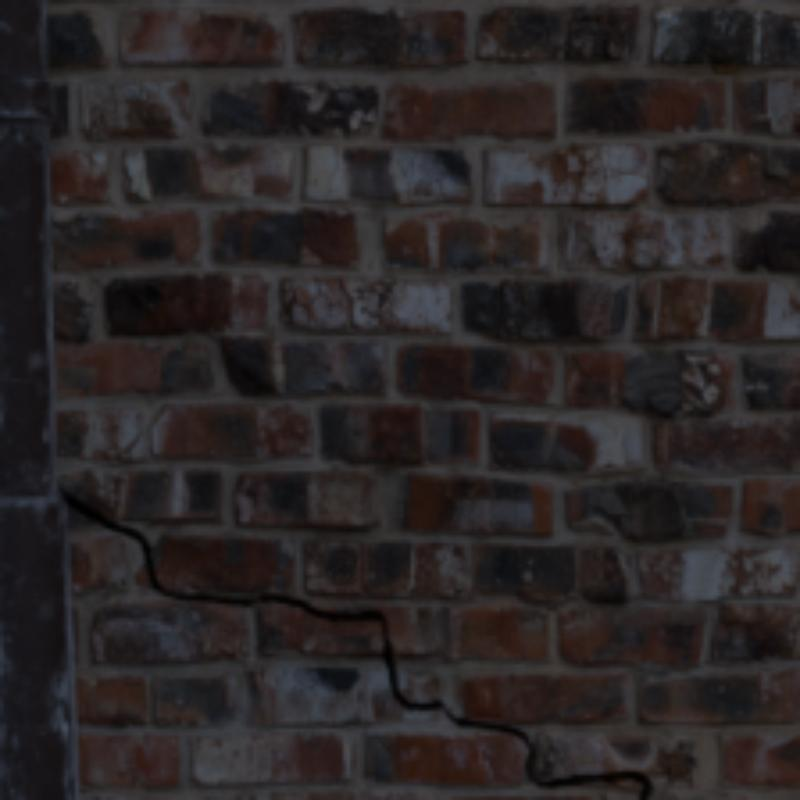pothole: (57, 486, 650, 796)
